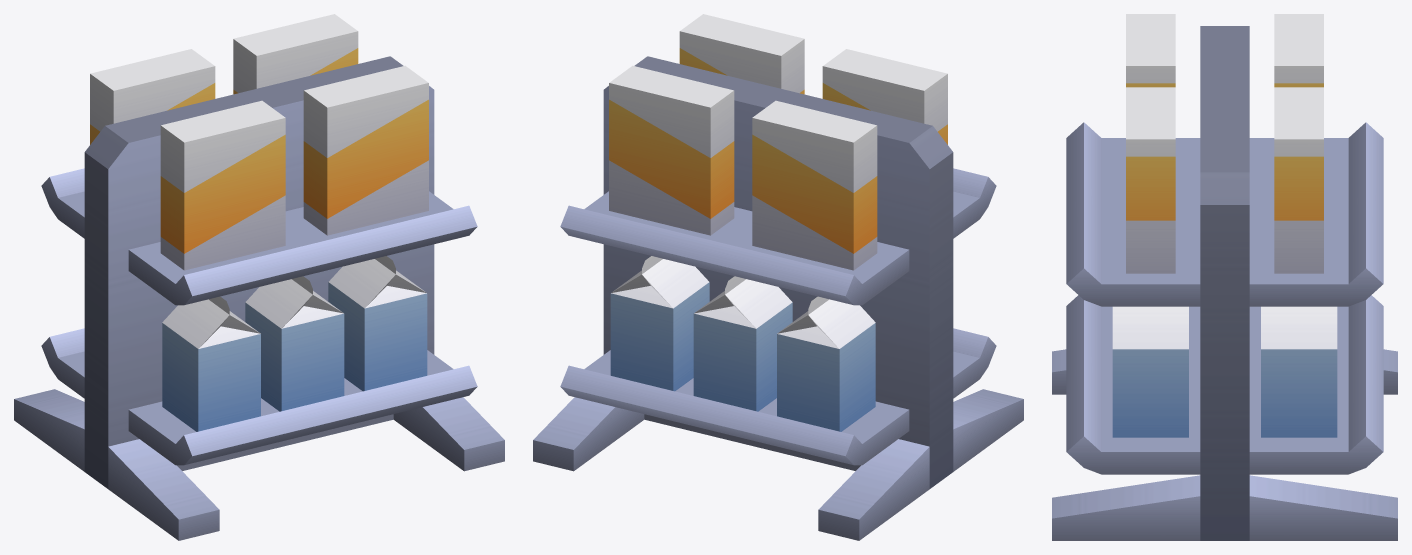
File: ShopShelfBoxes.obj
The picture shows the model from 3 angles, left to right: view 1: azimuth 30°, elevation 25°; view 2: azimuth 150°, elevation 25°; view 3: azimuth 270°, elevation 25°; orthographic projection. The views are drawn at different scales.
Visible parts, largest first — view 1: shelf_boxes, box_1, box, carton_2, carton, carton_1, box_2, box_3; view 2: shelf_boxes, box_3, box_2, carton_5, carton_3, carton_4, box, box_1; view 3: shelf_boxes, carton_3, carton, box_3, box_1, box_2, box.
Part boxes in pixels (x1=…): shelf_boxes: x1=14, y1=56, x2=504, y2=540; box_1: x1=303, y1=65, x2=428, y2=235; box: x1=160, y1=100, x2=285, y2=270; carton_2: x1=162, y1=296, x2=260, y2=431; carton: x1=328, y1=256, x2=427, y2=391; carton_1: x1=245, y1=276, x2=344, y2=411; box_2: x1=90, y1=49, x2=215, y2=144; box_3: x1=233, y1=14, x2=358, y2=94; shelf_boxes: x1=533, y1=56, x2=1023, y2=540; box_3: x1=609, y1=65, x2=734, y2=235; box_2: x1=752, y1=100, x2=877, y2=270; carton_5: x1=777, y1=296, x2=875, y2=431; carton_3: x1=610, y1=256, x2=709, y2=391; carton_4: x1=693, y1=276, x2=792, y2=411; box: x1=822, y1=49, x2=947, y2=144; box_1: x1=679, y1=14, x2=804, y2=94; shelf_boxes: x1=1052, y1=26, x2=1397, y2=540; carton_3: x1=1261, y1=306, x2=1337, y2=437; carton: x1=1112, y1=306, x2=1188, y2=437; box_3: x1=1274, y1=87, x2=1323, y2=273; box_1: x1=1126, y1=87, x2=1175, y2=273; box_2: x1=1274, y1=14, x2=1323, y2=87; box: x1=1126, y1=14, x2=1175, y2=87.
Size of the model in its own units: 1.6 by 1.7 by 1.4.
1 material, 1 textured.
